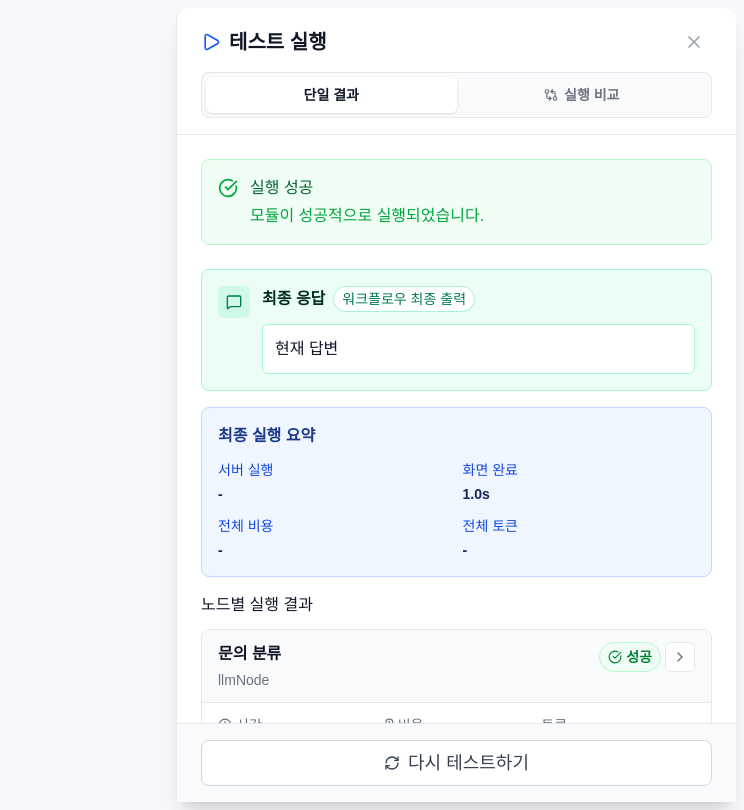
Test: TestSidebar execution comparison › 노드 상세 비교에서 다시 테스트하면 전체 노드 비교 목록으로 돌아간다
Click the button "실행 비교" at (582, 95), box [456,77,707,113]
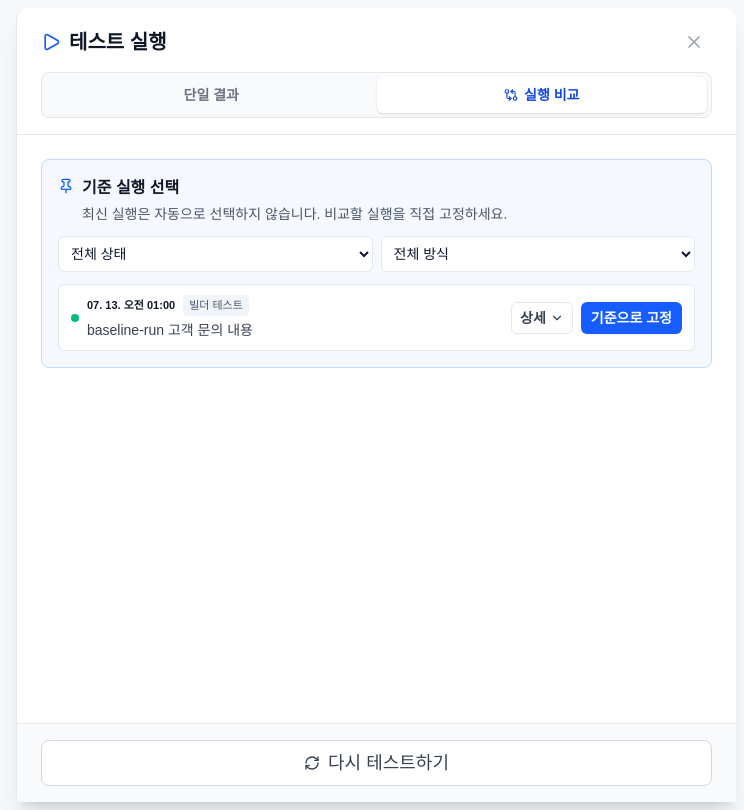
Click the button "기준으로 고정" at (631, 318), box [581,302,682,334]
(page scrolled)
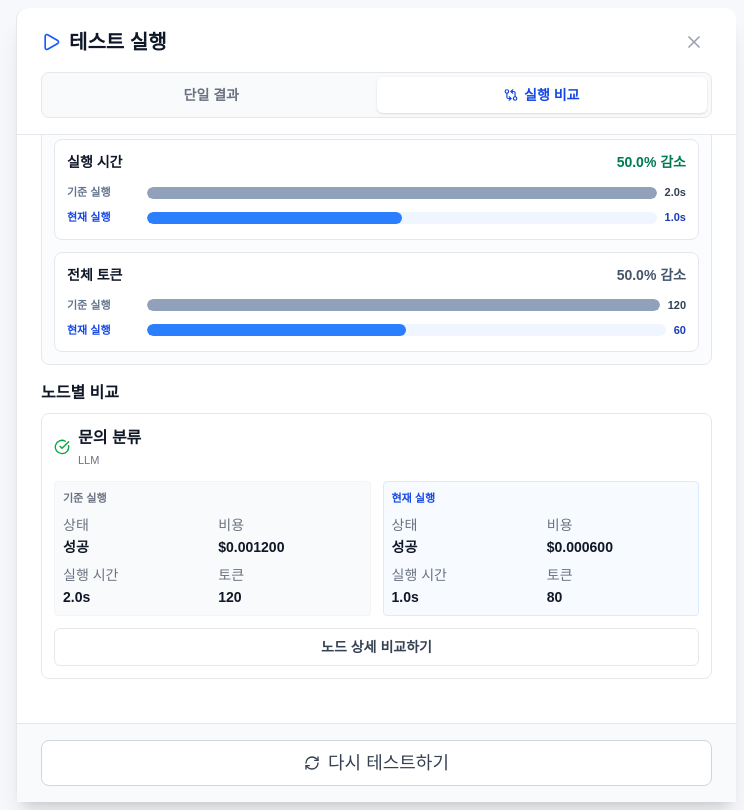
Click the button with aria-label "문의 분류 노드 상세 비교하기" at (376, 647), box [54,628,699,666]
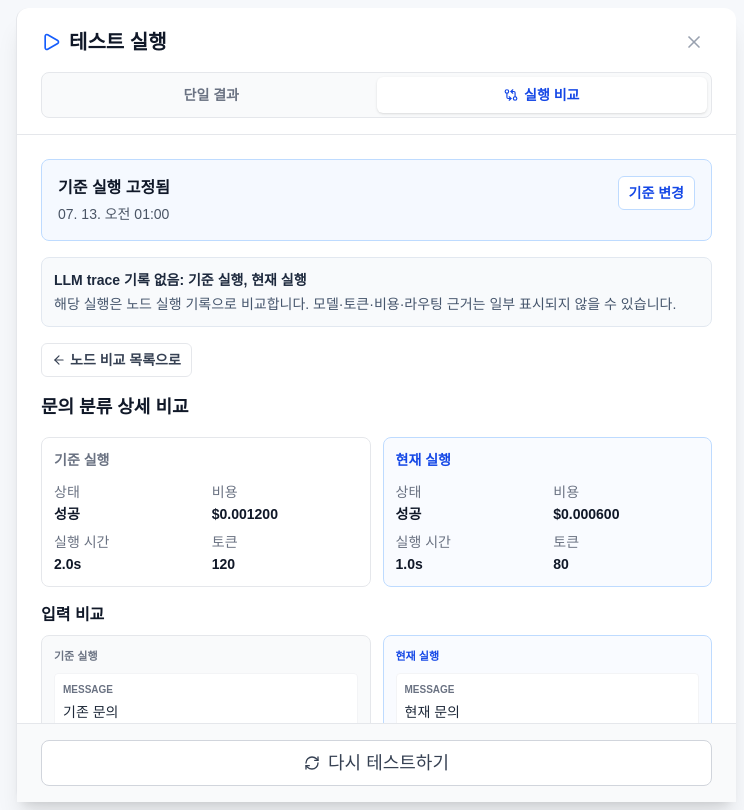
Expected: the heading "문의 분류 상세 비교" is shown, [41,397,188,417]
Click the button "다시 테스트하기" at (376, 763), box [41,740,712,786]
(page scrolled)
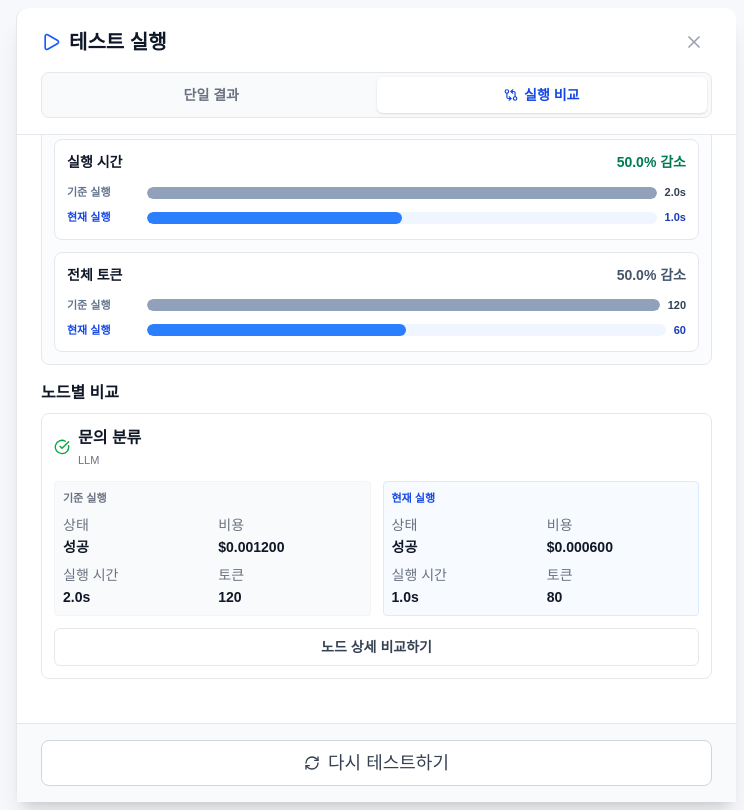
Expected: the heading "문의 분류 상세 비교" is gone
Expected: the button with aria-label "문의 분류 노드 상세 비교하기" is shown, [54,628,699,666]
